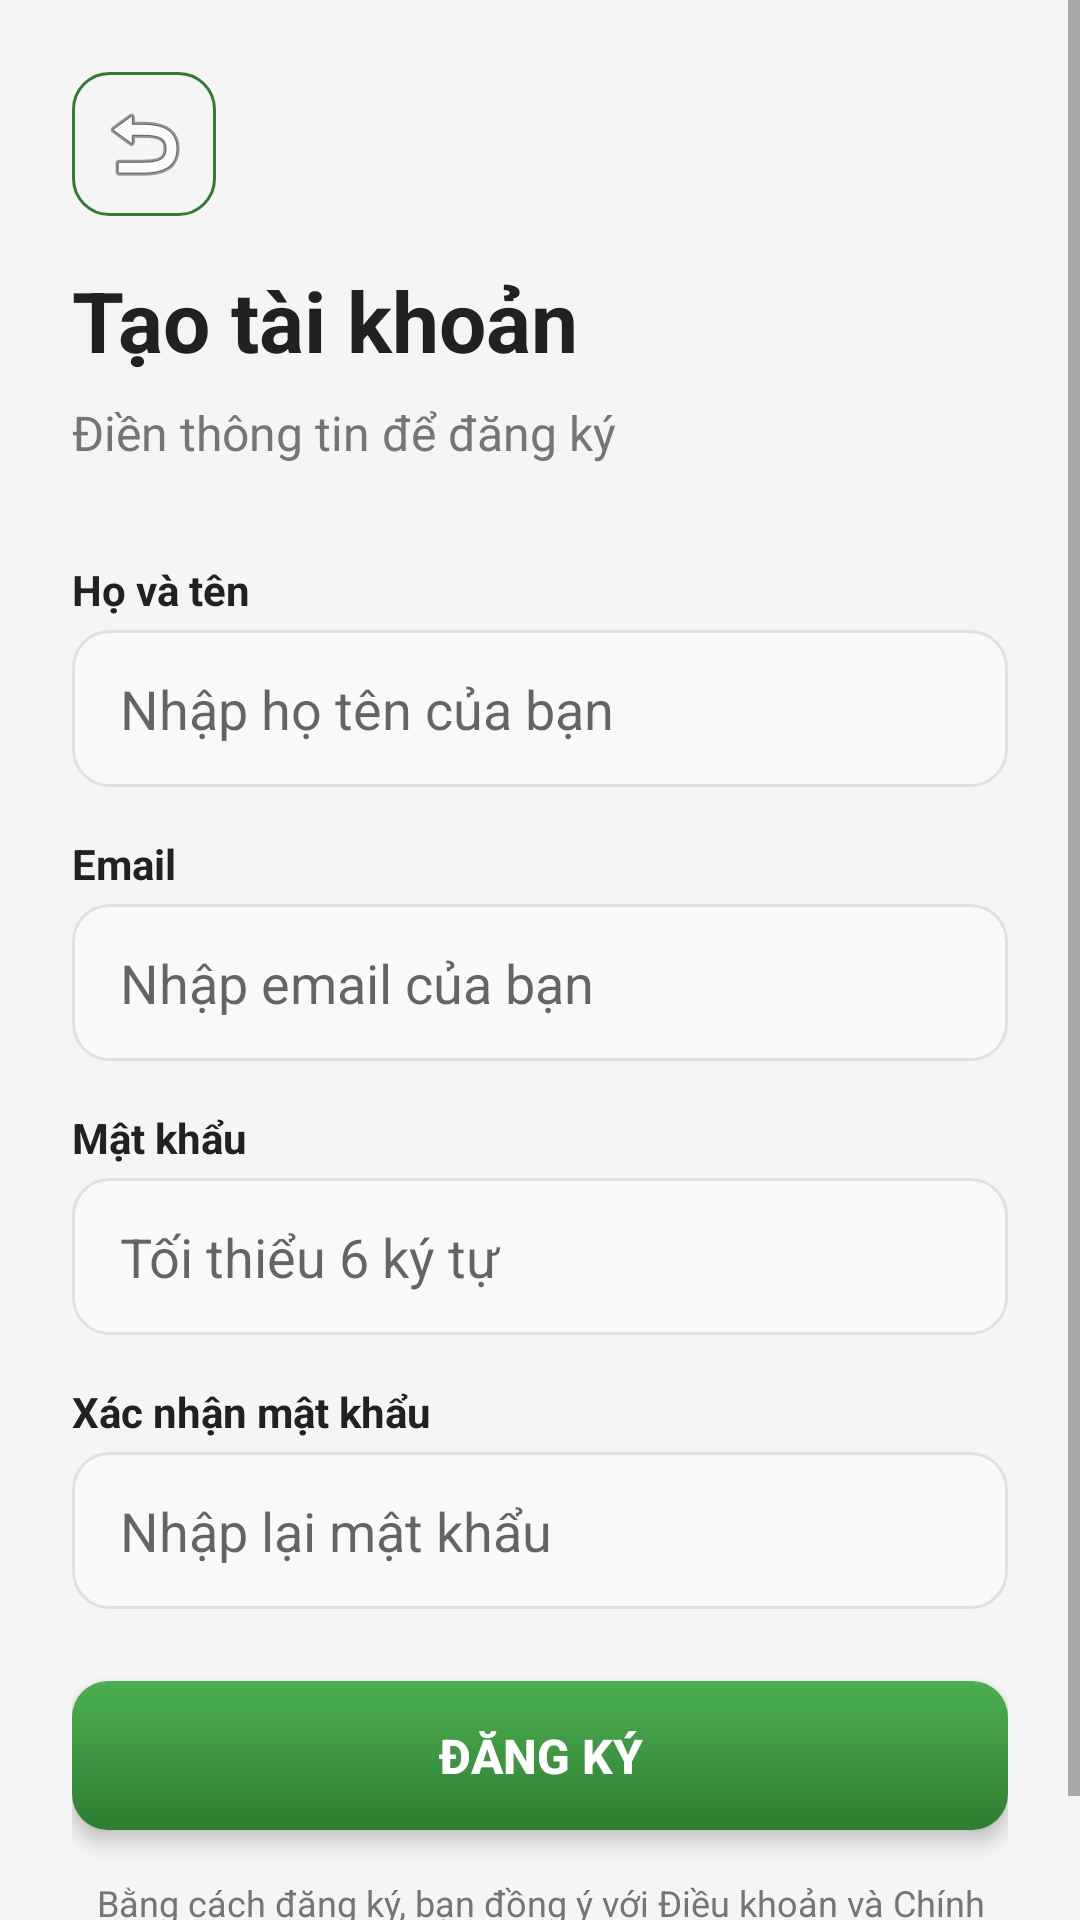

Point at icon controls on the screen. Image size 1080px×1920px, points as [x,y].
revert: [144,144]
